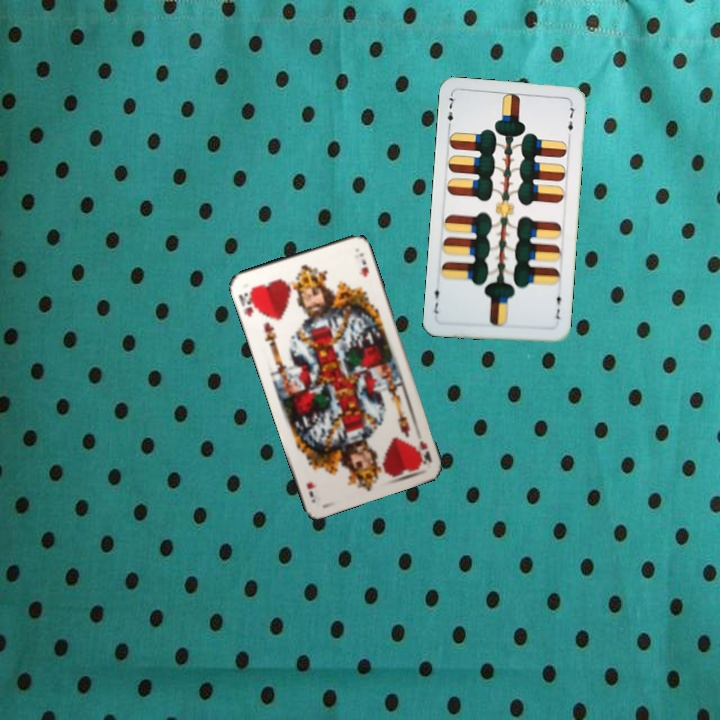E7: (443, 91, 456, 132), (551, 288, 564, 322)
HK: (235, 284, 262, 320), (415, 437, 434, 466)
